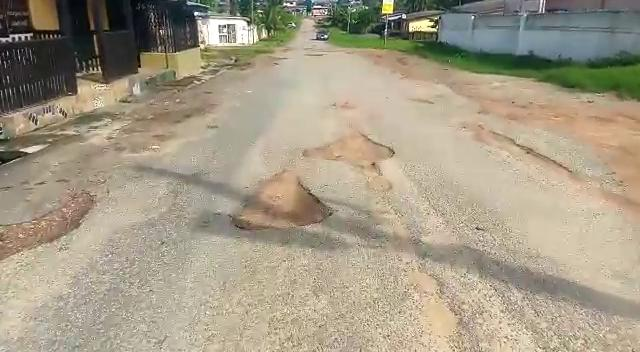pothole: (0, 182, 103, 263), (222, 173, 336, 235), (296, 135, 398, 171)
